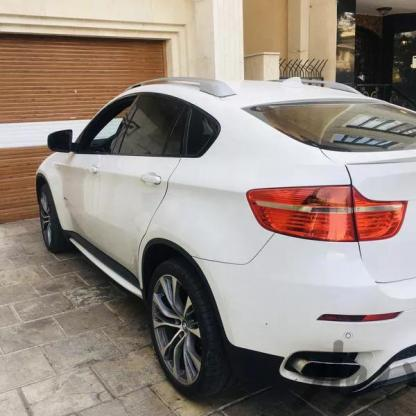Car: (0, 73, 416, 388)
